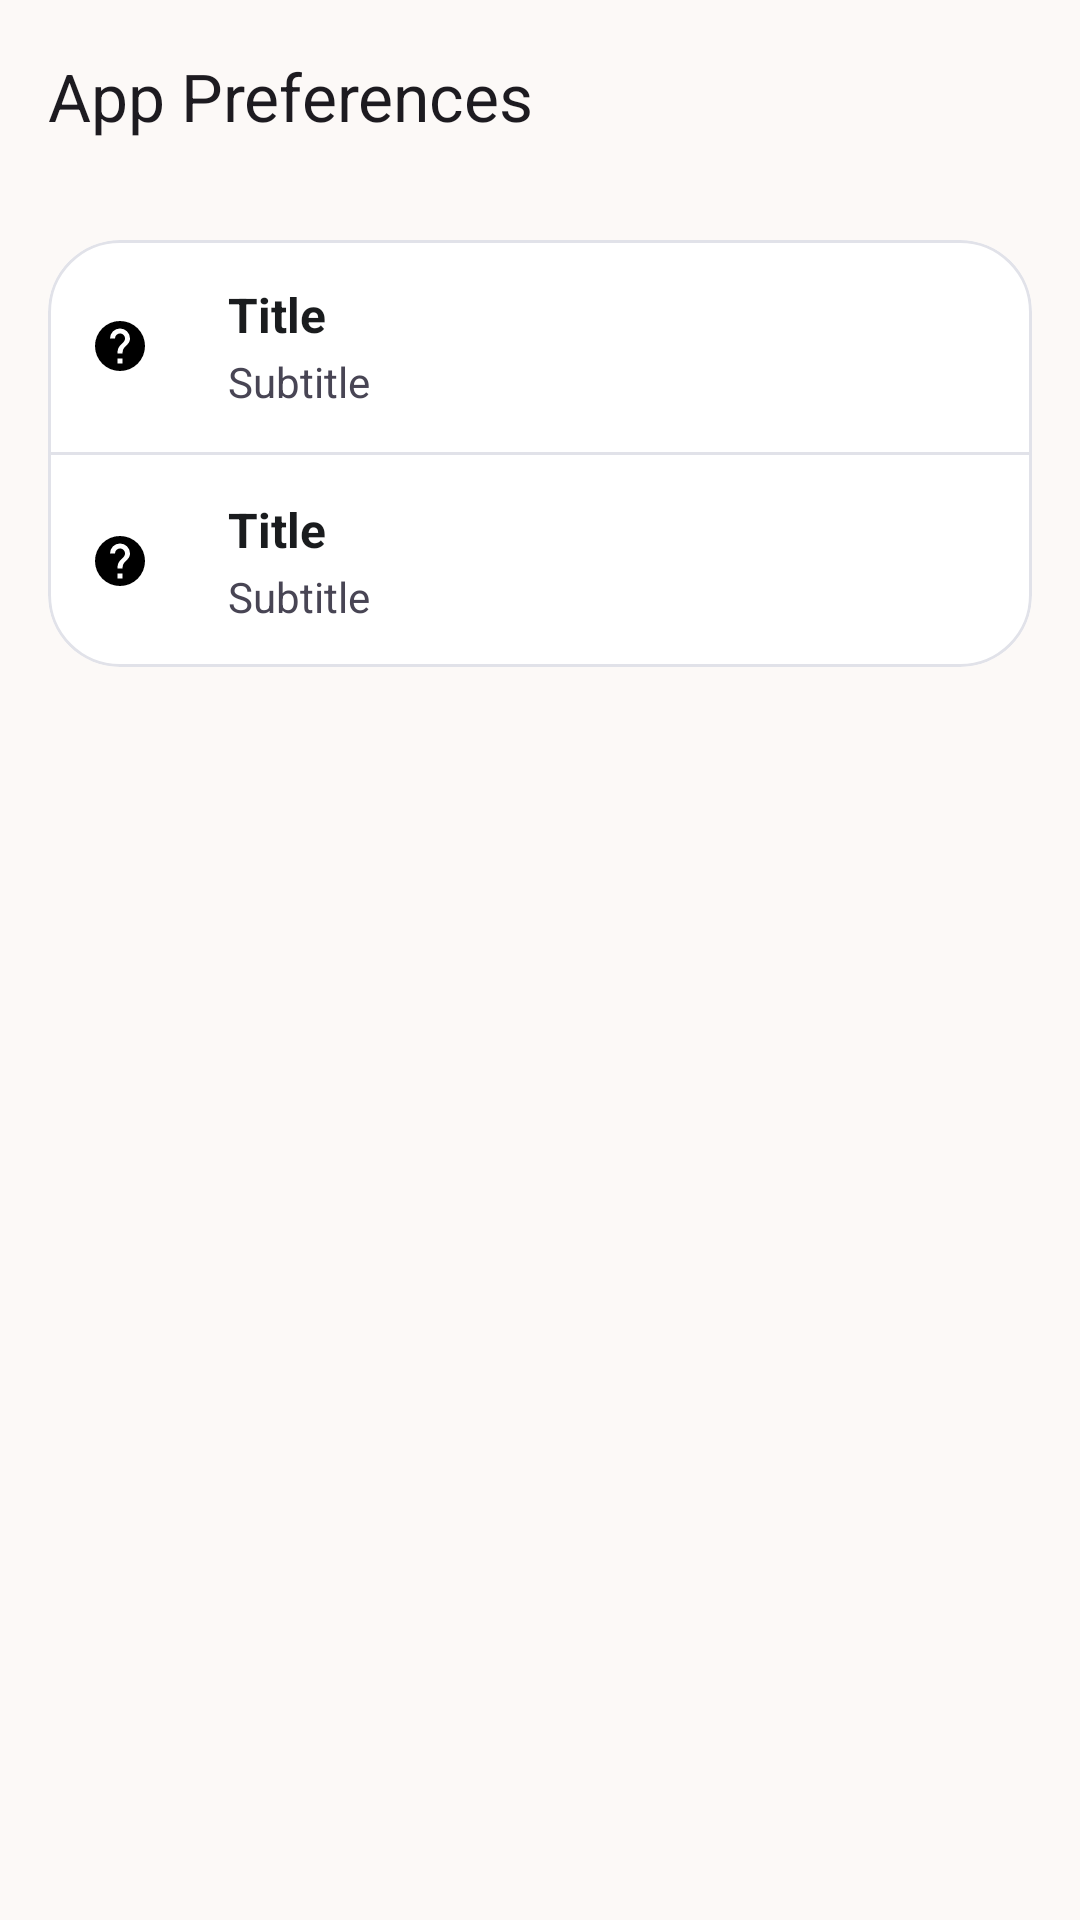

Where icons sit on this 1080*1920 app screen, as rect(x1, y1, x2, y2):
help: rect(95, 321, 145, 371), rect(95, 536, 145, 586)
